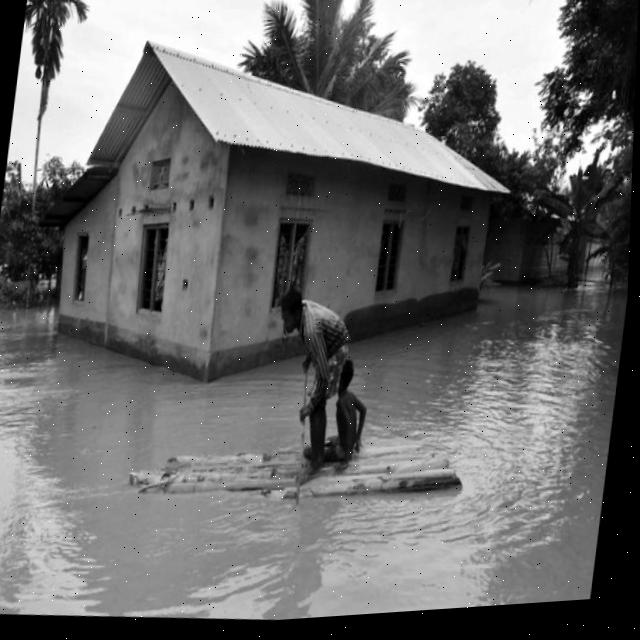civilian: (252, 267, 363, 492), (314, 351, 380, 471)
